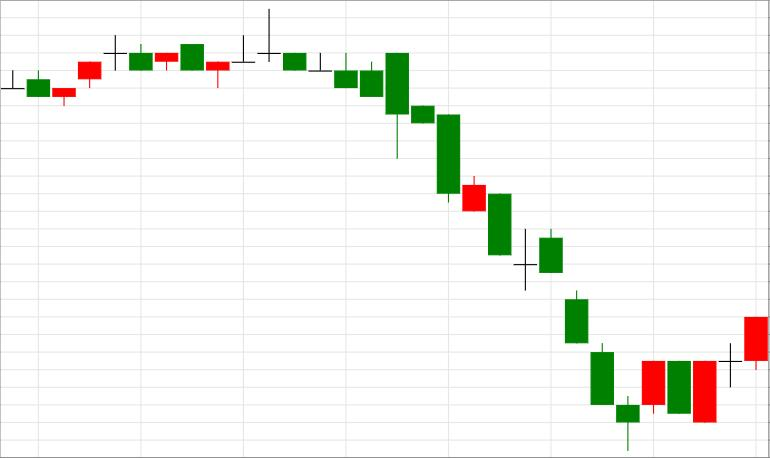morning_star_rise: (488, 193, 665, 450)
